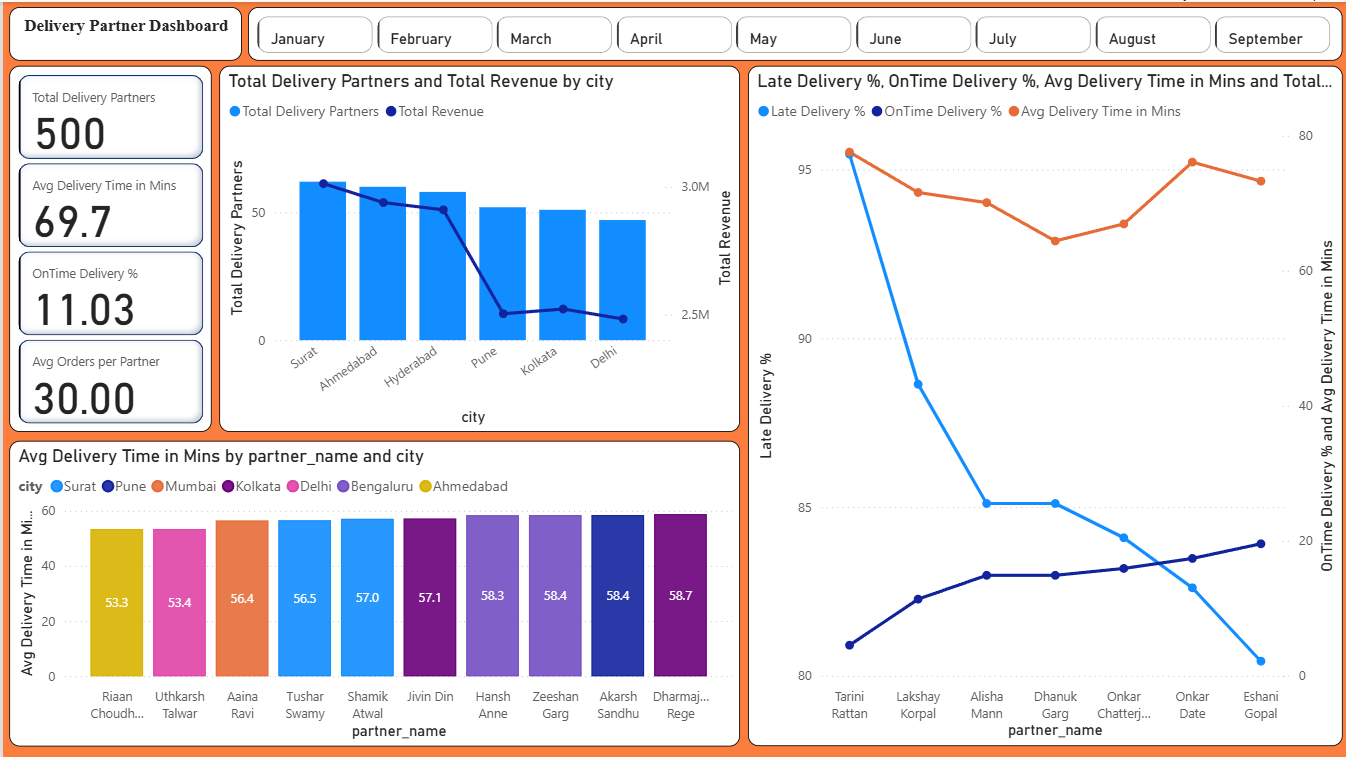

What the dashboard file says about the page in this screenshot:
{"tool":"powerbi","page":{"name":"Delivery Partners Dashboard","canvas":[1280,720],"ordinal":3},"visuals":[{"type":"textbox","box":[5.7,4.3,221.4,51.4],"z":0},{"type":"cardVisual","fields":{"Data":["delivery_partners.Total Delivery Partners","orders.Avg Delivery Time","orders.OnTime Delivery %","delivery_partners.Avg Orders per Partner"]},"box":[6.1,61.3,193,349.2],"z":1000},{"type":"advancedSlicerVisual","fields":{"Values":["Custom_Calender.Date.Variation.Date Hierarchy.Month"]},"box":[233.1,4.4,1042.5,51.2],"z":2000},{"type":"columnChart","fields":{"Category":["delivery_partners.partner_name"],"Y":["orders.Avg Delivery Time in Mins"],"Series":["delivery_partners.city"]},"box":[6,418,696,291],"z":3000},{"type":"lineChart","fields":{"Category":["delivery_partners.partner_name"],"Y":["orders.Late Delivery %"],"Y2":["orders.OnTime Delivery %","orders.Avg Delivery Time in Mins"]},"box":[709.1,61.3,566.6,647.8],"z":4000},{"type":"lineStackedColumnComboChart","fields":{"Y2":["orders.Total Revenue"],"Category":["delivery_partners.city"],"Y":["delivery_partners.Total Delivery Partners"]},"box":[205.5,60.9,496.4,349.1],"z":5000}]}

Visuals, with their boxes in screenshot pixels (x1, y1, x2, y2), scaled from the page's 1280x720 canvas onto the 1346x757 screenshot:
textbox: [6,5,239,59]
cardVisual - delivery_partners.Total Delivery Partners x orders.Avg Delivery Time: [6,64,209,432]
advancedSlicerVisual - Custom_Calender.Date.Variation.Date Hierarchy.Month: [245,5,1341,58]
columnChart - delivery_partners.partner_name x orders.Avg Delivery Time in Mins: [6,439,738,745]
lineChart - delivery_partners.partner_name x orders.Late Delivery %: [746,64,1341,746]
lineStackedColumnComboChart - orders.Total Revenue x delivery_partners.city: [216,64,738,431]
